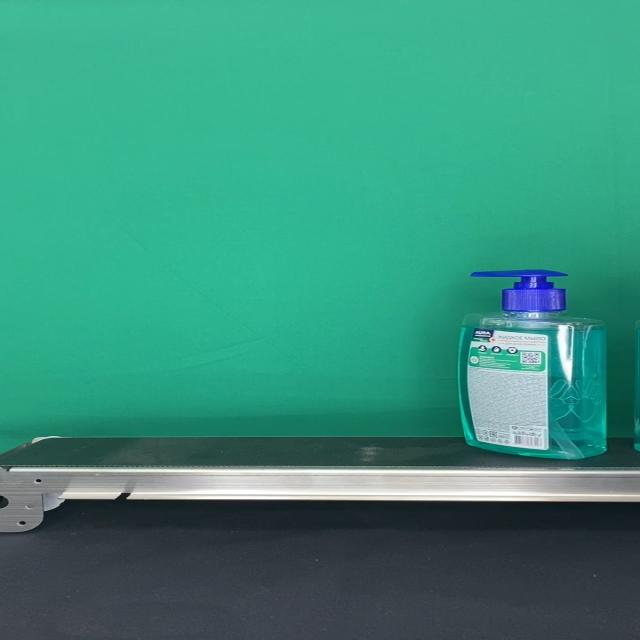Bottle: (457, 270, 607, 460)
Cap: (467, 270, 567, 312)
